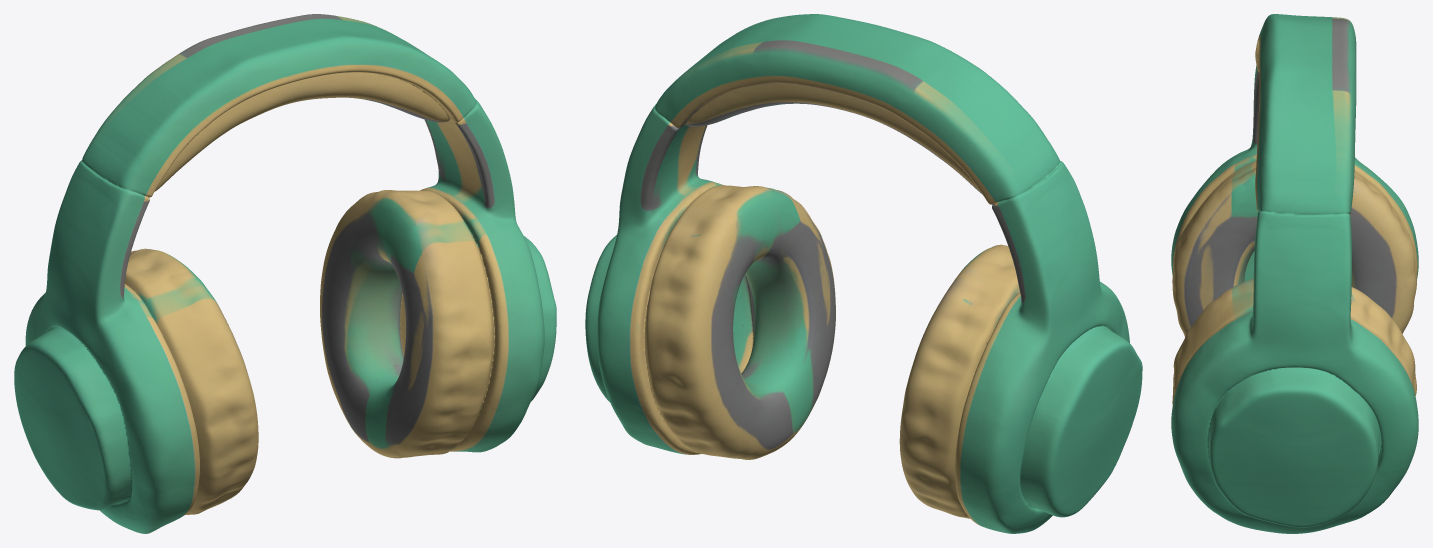
Rendered from acc_headset.glb.
3 renders of one model, left to right at view 1: azimuth 30°, elevation 25°; view 2: azimuth 150°, elevation 25°; view 3: azimuth 270°, elevation 25°, orthographic. The views are drawn at different scales.
Visible parts, largest first — view 1: tripo_node_35616c94-2af6-46df-b2d2-33fc5d4c7575; view 2: tripo_node_35616c94-2af6-46df-b2d2-33fc5d4c7575; view 3: tripo_node_35616c94-2af6-46df-b2d2-33fc5d4c7575.
Boxes of the visible parts, bbox=[...] form: tripo_node_35616c94-2af6-46df-b2d2-33fc5d4c7575: bbox=[14, 14, 556, 533]; tripo_node_35616c94-2af6-46df-b2d2-33fc5d4c7575: bbox=[585, 14, 1142, 533]; tripo_node_35616c94-2af6-46df-b2d2-33fc5d4c7575: bbox=[1171, 14, 1418, 533].
Bounding box in the file's own units: 1 × 0.8785 × 0.475.
Materials: 1 (1 with a texture image).
